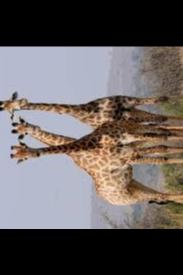Non_Gorille: (0, 69, 183, 219)
